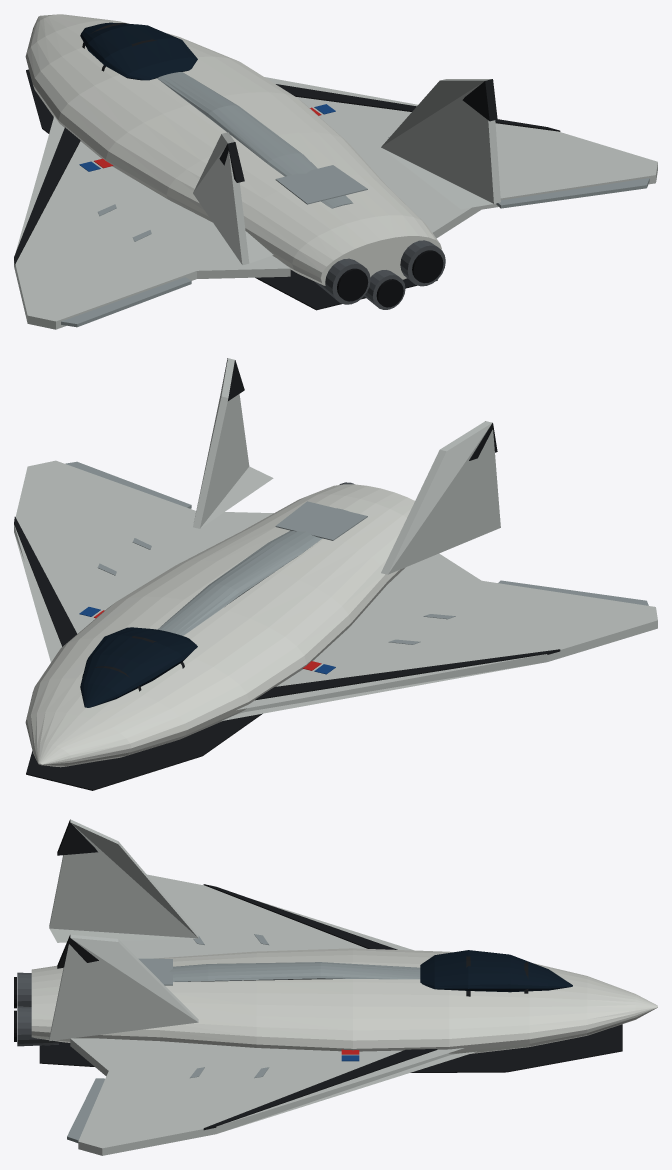
File: Shuttle2010.obj
3 views of the same model, one above another, from view 1: azimuth 30°, elevation 25°; view 2: azimuth 150°, elevation 25°; view 3: azimuth 270°, elevation 25° (orthographic). The views are drawn at different scales.
Parts seen in each view (by area): view 1: Shuttle_X2010_ESA; view 2: Shuttle_X2010_ESA; view 3: Shuttle_X2010_ESA.
Boxes of the visible parts, bbox=[...] form: Shuttle_X2010_ESA: bbox=[14, 14, 657, 329]; Shuttle_X2010_ESA: bbox=[14, 358, 657, 790]; Shuttle_X2010_ESA: bbox=[14, 819, 657, 1155].
Size of the model in its own units: 20.8 by 5.59 by 20.05.
